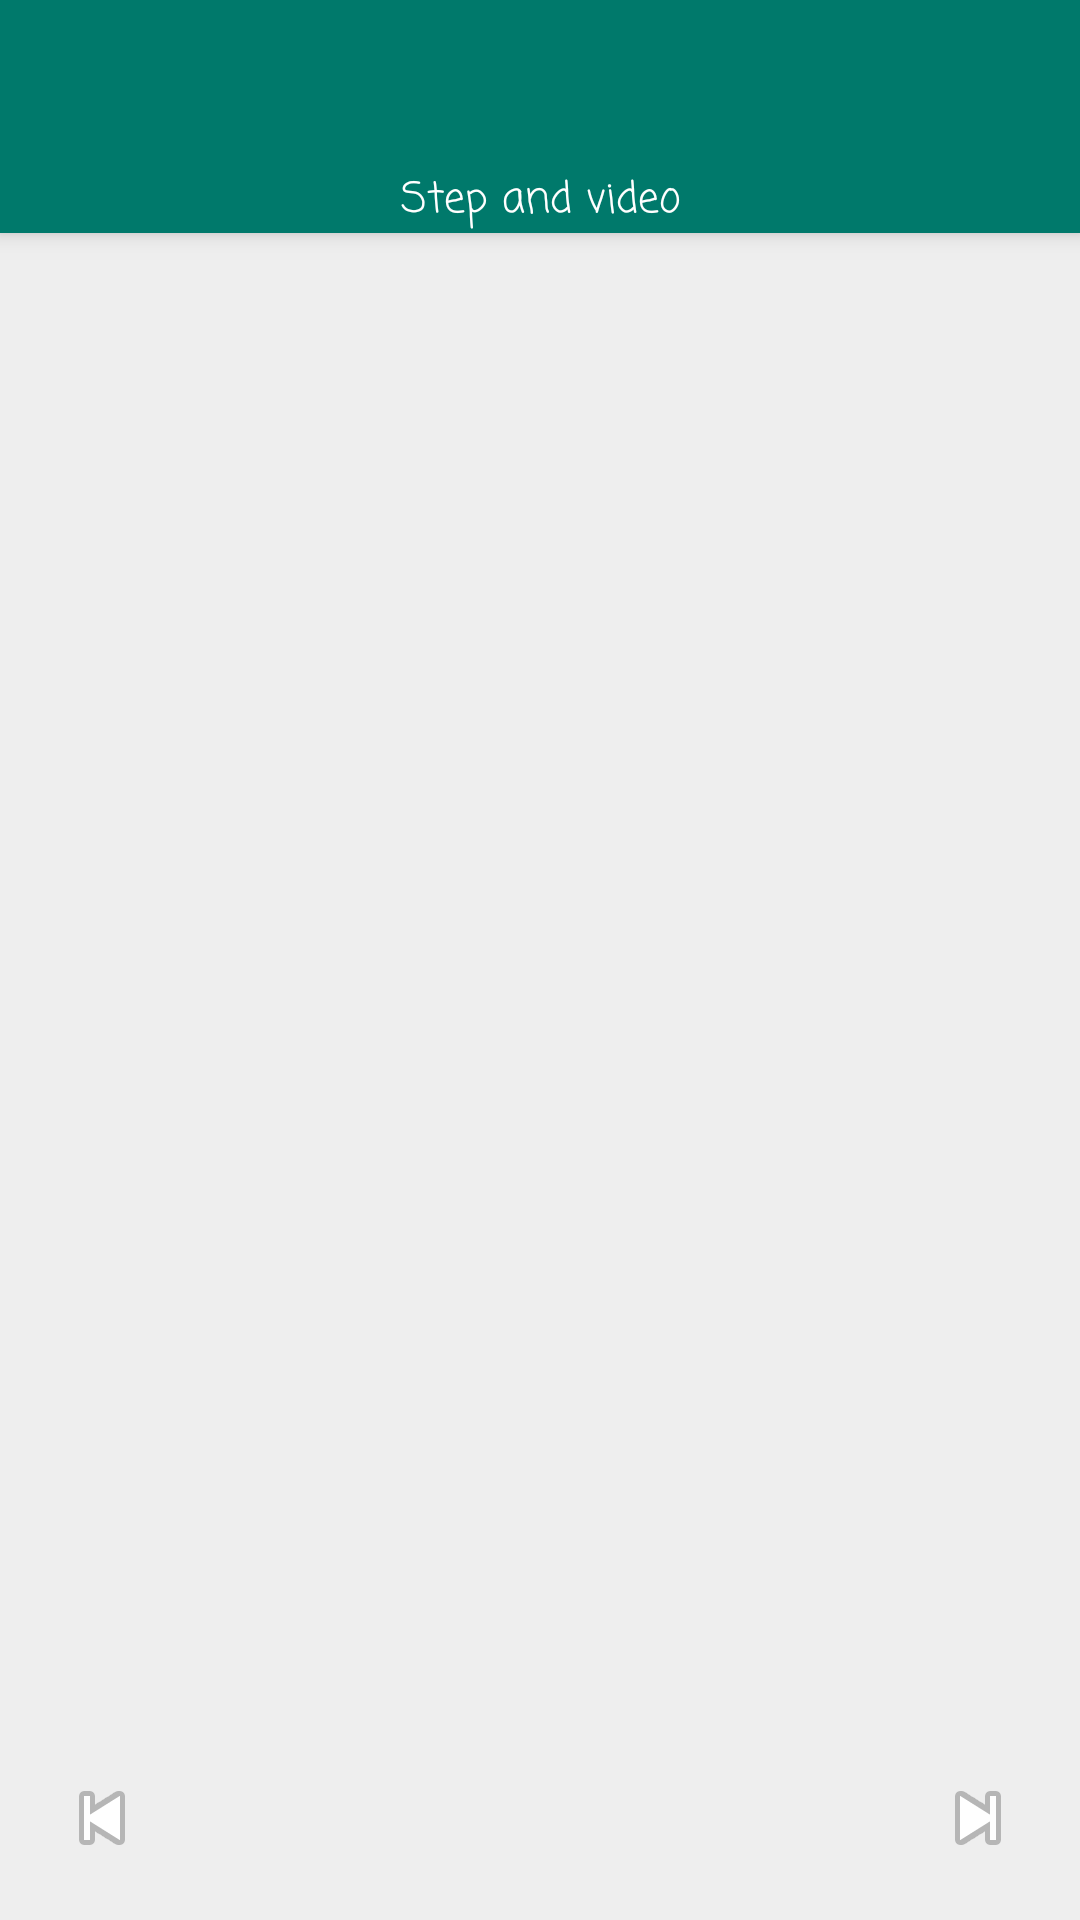

Icons on this 1080px×1920px Android screen, each with its box as (x1, y1, x2, y2):
next: (955, 1791, 1001, 1845)
previous: (79, 1791, 125, 1845)
